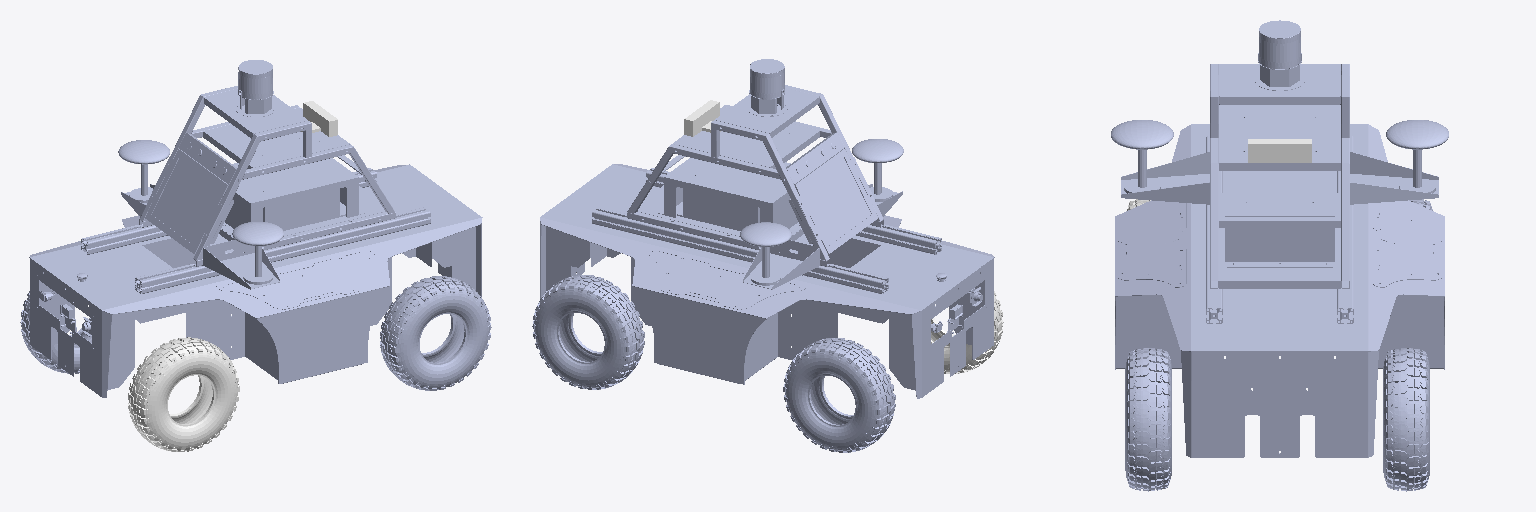
URDF robot description (test9):
<?xml version="1.0" encoding="utf-8"?>
<!-- This URDF was automatically created by SolidWorks to URDF Exporter! Originally created by [author] ([email redacted]) 
     Commit Version: 1.6.0-4-g7f85cfe  Build Version: 1.6.7995.38578
     For more information, please see http://wiki.ros.org/sw_urdf_exporter -->
<robot
  name="test9">
    <gazebo>
    <plugin name="gazebo_ros_control"  filename="libgazebo_ros_control.so">
      <robotSimType>steer_bot_hardware_gazebo/SteerBotHardwareGazebo</robotSimType>
      <legacyModeNS>false</legacyModeNS>
    </plugin>
  </gazebo>
  <link
    name="base_link">
    <inertial>
      <origin
        xyz="-0.0070857 -0.00022102 0.54657"
        rpy="0 0 0" />
      <mass
        value="15.051" />
      <inertia
        ixx="0.11965"
        ixy="-1.6769E-06"
        ixz="-0.0034836"
        iyy="0.29664"
        iyz="-2.1065E-06"
        izz="0.36527" />
    </inertial>
    <visual>
      <origin
        xyz="0 0 0"
        rpy="0 0 0" />
      <geometry>
        <mesh
          filename="package://test9/meshes/base_link.STL" />
      </geometry>
      <material
        name="">
        <color
          rgba="0.79216 0.81961 0.93333 1" />
      </material>
    </visual>
    <collision>
      <origin
        xyz="0 0 0"
        rpy="0 0 0" />
      <geometry>
        <mesh
          filename="package://test9/meshes/base_link.STL" />
      </geometry>
    </collision>
  </link>
  <link
    name="front_steer_link">
    <inertial>
      <origin
        xyz="1.1102E-16 -1.3587E-18 -0.000375"
        rpy="0 0 0" />
      <mass
        value="2.0944E-06" />
      <inertia
        ixx="5.4323E-13"
        ixy="-1.0771E-28"
        ixz="-1.0797E-27"
        iyy="5.4323E-13"
        iyz="1.0693E-27"
        izz="8.3776E-13" />
    </inertial>
    <visual>
      <origin
        xyz="0 0 0"
        rpy="0 0 0" />
      <geometry>
        <mesh
          filename="package://test9/meshes/front_steer_link.STL" />
      </geometry>
      <material
        name="">
        <color
          rgba="1 1 1 1" />
      </material>
    </visual>
    <collision>
      <origin
        xyz="0 0 0"
        rpy="0 0 0" />
      <geometry>
        <mesh
          filename="package://test9/meshes/front_steer_link.STL" />
      </geometry>
    </collision>
  </link>
  <joint
    name="front_steer_joint"
    type="revolute">
    <origin
      xyz="0.42 0 0"
      rpy="0 0 0" />
    <parent
      link="base_link" />
    <child
      link="front_steer_link" />
    <axis
      xyz="0 0 1" />
    <limit
      lower="-0.72"
      upper="0.72"
      effort="0"
      velocity="0" />
  </joint>
  <link
    name="front_steer_left_link">
    <inertial> 
      <origin xyz="9.44636555644252E-08 -0.000295273745285485 -8.13046296954667E-11" rpy="0 0 0" />
      <mass value="0.296315811300368" /> 
      <inertia
        ixx="0.000374692013709393"
        ixy="-9.17172260383823E-08"
        ixz="-2.43187512356516E-12"
        iyy="0.000661029987747155"
        iyz="1.9736939507106E-13"
        izz="0.000374691963930348" />
    </inertial>
   <visual>
     <geometry>
       <cylinder length="0.001" radius="0.005"/>
     </geometry>
     <origin rpy="0 0 0"  xyz="0 0 0" />
   </visual>
    <collision>
      <origin xyz="0 0 0" rpy="0 0 0" />
      <geometry>
       <cylinder length="0.001" radius="0.005"/>
      </geometry>
    </collision>
    
  </link>
  <joint
    name="front_steer_left_joint"
    type="revolute">
    <origin rpy="0 0 0"  xyz="0.42 0.3 0.26937" />
    <parent link="base_link" />
    <child link="front_steer_left_link" />
    <axis xyz="0 0 1" />  <!-- charge steer direction default is 0 0 1-->
    <limit lower="-0.61" upper="0.61" effort="0" velocity="0" />
  </joint>
  <link
    name="front_left_wheel_link">
    <inertial>
      <origin
        xyz="-1.6252E-08 1.9746E-07 -4.9513E-09"
        rpy="0 0 0" />
      <mass
        value="2.3611" />
      <inertia
        ixx="0.025953"
        ixy="3.9277E-10"
        ixz="-1.096E-12"
        iyy="0.045436"
        iyz="9.5777E-09"
        izz="0.025953" />
    </inertial>
    <visual>
      <origin
        xyz="0 0 0"
        rpy="0 0 0" />
      <geometry>
        <mesh
          filename="package://test9/meshes/front_left_wheel_link.STL" />
      </geometry>
      <material
        name="">
        <color
          rgba="0.79216 0.81961 0.93333 1" />
      </material>
    </visual>
    <collision>
      <origin
        xyz="0 0 0"
        rpy="0 0 0" />
      <geometry>
        <mesh
          filename="package://test9/meshes/front_left_wheel_link.STL" />
      </geometry>
    </collision>
  </link>
  <joint
    name="front_left_wheel_joint"
    type="continuous">
    <origin
      xyz="0 0 -0.1"
      rpy="0 0 0" />
    <parent
      link="front_steer_left_link" />
    <child
      link="front_left_wheel_link" />
    <axis
      xyz="0 1 0" />
  </joint>
  <link
    name="front_steer_right_link">
    <inertial>  
      <origin xyz="9.44636555644252E-08 -0.000295273745285485 -8.13046296954667E-11" rpy="0 0 0" />
      <mass value="0.296315811300368" /> 
      <inertia
        ixx="0.000374692013709393"
        ixy="-9.17172260383823E-08"
        ixz="-2.43187512356516E-12"
        iyy="0.000661029987747155"
        iyz="1.9736939507106E-13"
        izz="0.000374691963930348" />
    </inertial>
   <visual>
     <geometry>
       <cylinder length="0.001" radius="0.005"/>
     </geometry>
     <origin rpy="0 0 0"  xyz="0 0 0" />
     <material name=""> 
          <color rgba="0.792156862745098 0.819607843137255 0.933333333333333 1" />
     </material>
   </visual>
   <collision>
      <origin
        xyz="0 0 0"
        rpy="0 0 0" />
      <geometry>
       <cylinder length="0.001" radius="0.005"/>
      </geometry>
    </collision>
    
  </link>
  <joint
    name="front_steer_right_joint"
    type="revolute">
    <origin rpy="0 0 0"  xyz="0.42 -0.31 0.26937" />
    <parent link="base_link" />
    <child link="front_steer_right_link" />
    <axis xyz="0 0 1" />     <!-- charge steer direction default is 0 0 1-->
    <limit lower="-0.61" upper="0.61" effort="0" velocity="0" />
  </joint>
  <link
    name="front_right_wheel_link">
    <inertial>
      <origin
        xyz="1.6252E-08 -1.9746E-07 -4.9515E-09"
        rpy="0 0 0" />
      <mass
        value="2.3611" />
      <inertia
        ixx="0.025953"
        ixy="3.9279E-10"
        ixz="9.4373E-13"
        iyy="0.045436"
        iyz="-9.5777E-09"
        izz="0.025953" />
    </inertial>
    <visual>
      <origin
        xyz="0 0 0"
        rpy="0 0 0" />
      <geometry>
        <mesh
          filename="package://test9/meshes/front_right_wheel_link.STL" />
      </geometry>
      <material
        name="">
        <color
          rgba="0.79216 0.81961 0.93333 1" />
      </material>
    </visual>
    <collision>
      <origin
        xyz="0 0 0"
        rpy="0 0 0" />
      <geometry>
        <mesh
          filename="package://test9/meshes/front_right_wheel_link.STL" />
      </geometry>
    </collision>
  </link>
  <joint
    name="front_right_wheel_joint"
    type="continuous">
    <origin
      xyz="0 0 -0.1"
      rpy="0 0 0" />
    <parent
      link="front_steer_right_link" />
    <child
      link="front_right_wheel_link" />
    <axis
      xyz="0 1 0" />
  </joint>
  <link
    name="rear_wheel_link ">
    <inertial>
      <origin
        xyz="-5.5511E-17 -1.3587E-18 -0.000375"
        rpy="0 0 0" />
      <mass
        value="2.0944E-06" />
      <inertia
        ixx="5.4323E-13"
        ixy="-1.0771E-28"
        ixz="-1.0797E-27"
        iyy="5.4323E-13"
        iyz="1.0693E-27"
        izz="8.3776E-13" />
    </inertial>
    <visual>
      <origin
        xyz="0 0 0"
        rpy="0 0 0" />
      <geometry>
        <mesh
          filename="package://test9/meshes/rear_wheel_link .STL" />
      </geometry>
      <material
        name="">
        <color
          rgba="1 1 1 1" />
      </material>
    </visual>
    <collision>
      <origin
        xyz="0 0 0"
        rpy="0 0 0" />
      <geometry>
        <mesh
          filename="package://test9/meshes/rear_wheel_link .STL" />
      </geometry>
    </collision>
  </link>
  <joint
    name="rear_wheel_joint"
    type="continuous">
    <origin
      xyz="-0.42 0 0.16937"
      rpy="0 0 0" />
    <parent
      link="base_link" />
    <child
      link="rear_wheel_link " />
    <axis
      xyz="0 1 0" />
  </joint>
  <link
    name="camera">
    <inertial>
      <origin
        xyz="0.015 -1.4324E-16 2.2204E-15"
        rpy="0 0 0" />
      <mass
        value="0.225" />
      <inertia
        ixx="0.00046875"
        ixy="-4.2534E-18"
        ixz="1.1402E-19"
        iyy="6.375E-05"
        iyz="1.3093E-18"
        izz="0.00043875" />
    </inertial>
    <visual>
      <origin
        xyz="0 0 0"
        rpy="0 0 0" />
      <geometry>
        <mesh
          filename="package://test9/meshes/camera.STL" />
      </geometry>
      <material
        name="">
        <color
          rgba="1 1 1 1" />
      </material>
    </visual>
    <collision>
      <origin
        xyz="0 0 0"
        rpy="0 0 0" />
      <geometry>
        <mesh
          filename="package://test9/meshes/camera.STL" />
      </geometry>
    </collision>
  </link>
  <joint
    name="camera_joint"
    type="fixed">
    <origin
      xyz="0.20158 0 0.77527"
      rpy="0 0 0" />
    <parent
      link="base_link" />
    <child
      link="camera" />
    <axis
      xyz="0 0 0" />
  </joint>
  <link
    name="imu">
    <inertial>
      <origin
        xyz="-2.276E-15 1.7457E-17 0.005"
        rpy="0 0 0" />
      <mass
        value="0.025" />
      <inertia
        ixx="5.4167E-06"
        ixy="2.7218E-22"
        ixz="-1.8636E-20"
        iyy="5.4167E-06"
        iyz="1.7413E-20"
        izz="1.0417E-05" />
    </inertial>
    <visual>
      <origin
        xyz="0 0 0"
        rpy="0 0 0" />
      <geometry>
        <mesh
          filename="package://test9/meshes/imu.STL" />
      </geometry>
      <material
        name="">
        <color
          rgba="1 1 1 1" />
      </material>
    </visual>
    <collision>
      <origin
        xyz="0 0 0"
        rpy="0 0 0" />
      <geometry>
        <mesh
          filename="package://test9/meshes/imu.STL" />
      </geometry>
    </collision>
  </link>
  <joint
    name="imu_joint"
    type="fixed">
    <origin
      xyz="0.17658 0 0.75027"
      rpy="0 0 0" />
    <parent
      link="base_link" />
    <child
      link="imu" />
    <axis
      xyz="0 0 0" />
  </joint>
  <link
    name="left_rear_link">
    <inertial>
      <origin
        xyz="-1.6252E-08 1.9746E-07 -4.9512E-09"
        rpy="0 0 0" />
      <mass
        value="2.3611" />
      <inertia
        ixx="0.025953"
        ixy="3.9266E-10"
        ixz="-8.3216E-13"
        iyy="0.045436"
        iyz="9.5777E-09"
        izz="0.025953" />
    </inertial>
    <visual>
      <origin
        xyz="0 0 0"
        rpy="0 0 0" />
      <geometry>
        <mesh
          filename="package://test9/meshes/left_rear_link.STL" />
      </geometry>
      <material
        name="">
        <color
          rgba="0.79216 0.81961 0.93333 1" />
      </material>
    </visual>
    <collision>
      <origin
        xyz="0 0 0"
        rpy="0 0 0" />
      <geometry>
        <mesh
          filename="package://test9/meshes/left_rear_link.STL" />
      </geometry>
    </collision>
  </link>
  <joint
    name="left_rear_joint"
    type="continuous">
    <origin
      xyz="-0.42 0.31 0.16937"
      rpy="0 0 0" />
    <parent
      link="base_link" />
    <child
      link="left_rear_link" />
    <axis
      xyz="0 1 0" />
    <limit
      lower="-3.14"
      upper="3.14"
      effort="0"
      velocity="0" />
  </joint>
  <link
    name="right_rear_link">
    <inertial>
      <origin
        xyz="1.6252E-08 -1.9746E-07 -4.9512E-09"
        rpy="0 0 0" />
      <mass
        value="2.3611" />
      <inertia
        ixx="0.025953"
        ixy="3.9279E-10"
        ixz="9.4373E-13"
        iyy="0.045436"
        iyz="-9.5777E-09"
        izz="0.025953" />
    </inertial>
    <visual>
      <origin
        xyz="0 0 0"
        rpy="0 0 0" />
      <geometry>
        <mesh
          filename="package://test9/meshes/right_rear_link.STL" />
      </geometry>
      <material
        name="">
        <color
          rgba="1 1 1 1" />
      </material>
    </visual>
    <collision>
      <origin
        xyz="0 0 0"
        rpy="0 0 0" />
      <geometry>
        <mesh
          filename="package://test9/meshes/right_rear_link.STL" />
      </geometry>
    </collision>
  </link>
  <joint
    name="right_rear_joint"
    type="continuous">
    <origin
      xyz="-0.42 -0.31 0.16937"
      rpy="0 0 0" />
    <parent
      link="base_link" />
    <child
      link="right_rear_link" />
    <axis
      xyz="0 1 0" />
    <limit
      lower="-3.14"
      upper="3.14"
      effort="0"
      velocity="0" />
  </joint>
      <!--add color for links -->
  <gazebo reference="base_link">
    <material>Gazebo/DarkGrey </material>
  </gazebo>

  <gazebo reference="front_steer_left_link">
    <material>Gazebo/Road</material>
  </gazebo>

  <gazebo reference="front_steer_right_link">
    <material>Gazebo/Road</material>
  </gazebo>

  <gazebo reference="front_left_wheel_link">
    <material>Gazebo/Road</material>
  </gazebo>

  <gazebo reference="front_right_wheel_link">
    <material>Gazebo/Road</material>
  </gazebo>
  
  <gazebo reference="left_rear_link">
    <material>Gazebo/Road</material>
  </gazebo>

  <gazebo reference="right_rear_link">
    <material>Gazebo/Road</material>
  </gazebo>

  
   <gazebo reference="camera">
    <material>Gazebo/Black</material>
  </gazebo>

  <gazebo reference="imu">
    <material>Gazebo/Black</material>
  </gazebo>

    <gazebo reference="camera">  
      <sensor type="depth" name="camera">
        <always_on>true</always_on>
        <update_rate>20.0</update_rate>
        <camera>
          <!-- <horizontal_fov>60.0*3.1415927/180.0</horizontal_fov> -->
          <horizontal_fov>1.047197567</horizontal_fov>
          <image>
            <format>R8G8B8</format>
            <width>640</width>
            <height>480</height>
          </image>
          <clip>
            <near>0.05</near>
            <far>100</far>
          </clip>
        </camera>
        <plugin name="kinect_camera_controller" filename="libgazebo_ros_openni_kinect.so">
          <cameraName>camera</cameraName>
          <alwaysOn>true</alwaysOn>
          <updateRate>10</updateRate>
          <imageTopicName>rgb/image_raw</imageTopicName>
          <depthImageTopicName>depth/image_raw</depthImageTopicName>
          <pointCloudTopicName>depth/points</pointCloudTopicName>
          <cameraInfoTopicName>rgb/camera_info</cameraInfoTopicName>
          <depthImageCameraInfoTopicName>depth/camera_info</depthImageCameraInfoTopicName>
          <frameName>camera</frameName>
          <baseline>0.1</baseline>
          <distortion_k1>0.0</distortion_k1>
          <distortion_k2>0.0</distortion_k2>
          <distortion_k3>0.0</distortion_k3>
          <distortion_t1>0.0</distortion_t1>
          <distortion_t2>0.0</distortion_t2>
          <pointCloudCutoff>0.4</pointCloudCutoff>
        </plugin>
      </sensor>
    </gazebo>

    <gazebo reference="imu">
    <gravity>true</gravity>
    <sensor name="imu_sensor" type="imu">
      <always_on>true</always_on>
      <update_rate>100</update_rate>
      <visualize>true</visualize>
      <topic>__default_topic__</topic>
      <plugin filename="libgazebo_ros_imu_sensor.so" name="imu_plugin">
        <topicName>imu</topicName>
        <bodyName>imu_link</bodyName>
        <updateRateHZ>10.0</updateRateHZ>
        <gaussianNoise>0.0</gaussianNoise>
        <xyzOffset>0 0 0</xyzOffset>
        <rpyOffset>0 0 0</rpyOffset>
        <frameName>imu</frameName>
        <initialOrientationAsReference>false</initialOrientationAsReference>
      </plugin>
      <pose>0 0 0 0 0 0</pose>
    </sensor>
  </gazebo>




</robot>

--- Facts derived from the render (not from the file) ---
Views: 3 orthographic renders of the robot side by side, from view 1: azimuth 30°, elevation 25°; view 2: azimuth 150°, elevation 25°; view 3: azimuth 270°, elevation 25°.
Robot: test9 — 11 links, 10 joints (3 revolute, 5 continuous, 2 fixed); root link base_link; default pose: all joints at 0.
Links seen in each view (by area): view 1: base_link, front_right_wheel_link, right_rear_link, left_rear_link, camera; view 2: base_link, front_left_wheel_link, left_rear_link, right_rear_link, camera; view 3: base_link, front_left_wheel_link, front_right_wheel_link, camera.
Boxes of the visible links, box(x1,y1,x2,y2) form: base_link: box(29, 60, 482, 397); front_right_wheel_link: box(380, 276, 491, 390); right_rear_link: box(128, 337, 239, 451); left_rear_link: box(20, 291, 91, 373); camera: box(303, 101, 337, 136); base_link: box(540, 59, 994, 398); front_left_wheel_link: box(532, 275, 644, 389); left_rear_link: box(783, 338, 895, 452); right_rear_link: box(931, 291, 1003, 373); camera: box(684, 100, 719, 136); base_link: box(1111, 20, 1448, 457); front_left_wheel_link: box(1383, 348, 1429, 491); front_right_wheel_link: box(1125, 348, 1171, 491); camera: box(1248, 139, 1311, 162).
Size in the robot's own frame: 1.28 by 0.8016 by 0.9929 metres.
9 mesh visuals loaded from 9 distinct referenced files (9 binary STL).
